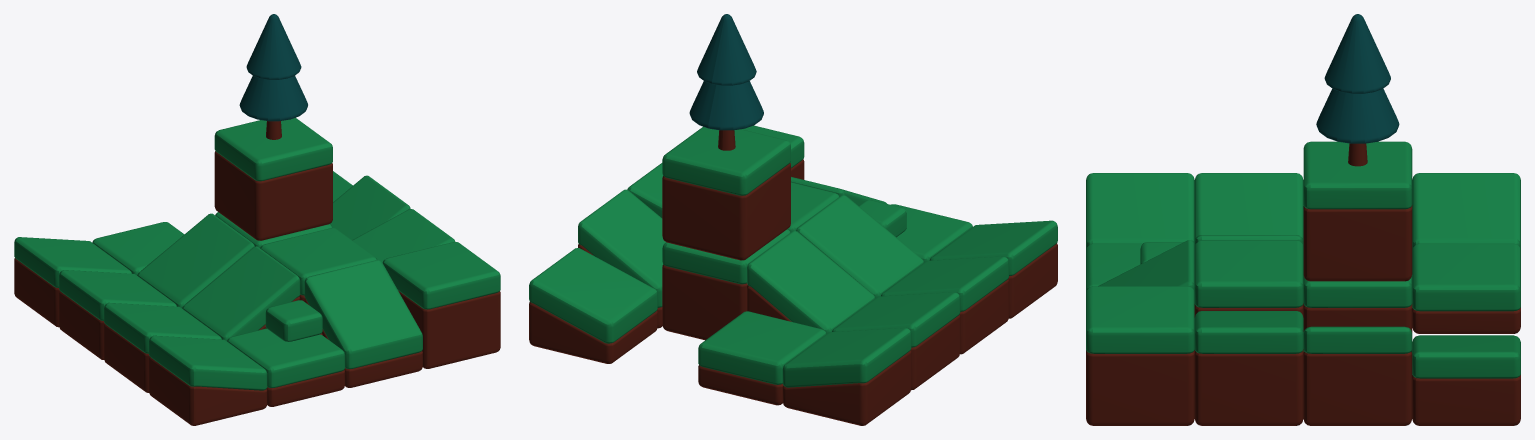
The model's file is Map_2.glb.
The picture shows the model from 3 angles, left to right: view 1: azimuth 30°, elevation 25°; view 2: azimuth 150°, elevation 25°; view 3: azimuth 270°, elevation 25°; orthographic projection. The views are drawn at different scales.
Parts seen in each view (by area): view 1: tileHigh_forest (×4), tileSlopeLowHigh_forest (×4), tileSlopeLowMedium_forest (×4), tileLow_forest (×2), tree_forest, tileSlopeMediumHigh_forest, tileSmall_forest; view 2: tileSlopeLowMedium_forest (×5), tileHigh_forest (×4), tileSlopeLowHigh_forest (×4), tileLow_forest (×2), tree_forest, tileSlopeMediumHigh_forest, tileSmall_forest; view 3: tileHigh_forest (×4), tileSlopeLowMedium_forest (×4), tileSlopeLowHigh_forest (×3), tileSlopeMediumHigh_forest, tileLow_forest (×2), tree_forest, tileSmall_forest.
Boxes of the visible parts, bbox=[...] form: tileHigh_forest (×4): bbox=[214, 117, 500, 368]; tileSlopeLowHigh_forest (×4): bbox=[137, 175, 422, 387]; tileSlopeLowMedium_forest (×4): bbox=[14, 237, 267, 425]; tileLow_forest (×2): bbox=[92, 222, 345, 406]; tree_forest: bbox=[239, 14, 307, 139]; tileSlopeMediumHigh_forest: bbox=[352, 209, 455, 262]; tileSmall_forest: bbox=[265, 300, 322, 341]; tileSlopeLowMedium_forest (×5): bbox=[529, 220, 1057, 425]; tileHigh_forest (×4): bbox=[662, 125, 839, 340]; tileSlopeLowHigh_forest (×4): bbox=[578, 177, 923, 333]; tileLow_forest (×2): bbox=[698, 204, 972, 405]; tree_forest: bbox=[689, 14, 763, 150]; tileSlopeMediumHigh_forest: bbox=[627, 163, 662, 217]; tileSmall_forest: bbox=[859, 200, 906, 237]; tileHigh_forest (×4): bbox=[1086, 141, 1412, 425]; tileSlopeLowMedium_forest (×4): bbox=[1086, 173, 1520, 425]; tileSlopeLowHigh_forest (×3): bbox=[1098, 235, 1412, 425]; tileSlopeMediumHigh_forest: bbox=[1194, 311, 1303, 425]; tileLow_forest (×2): bbox=[1086, 243, 1520, 333]; tree_forest: bbox=[1316, 14, 1399, 166]; tileSmall_forest: bbox=[1140, 242, 1183, 264].
Size of the model in its own units: 8 by 7 by 8.
